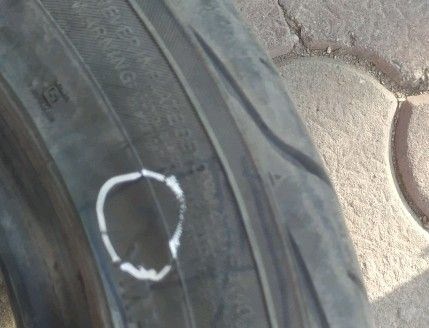CBU: (105, 178, 179, 269)
